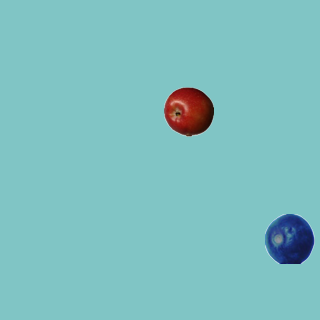Apple Braeburn: (163, 86, 213, 136)
Huckleberry: (264, 213, 314, 263)
